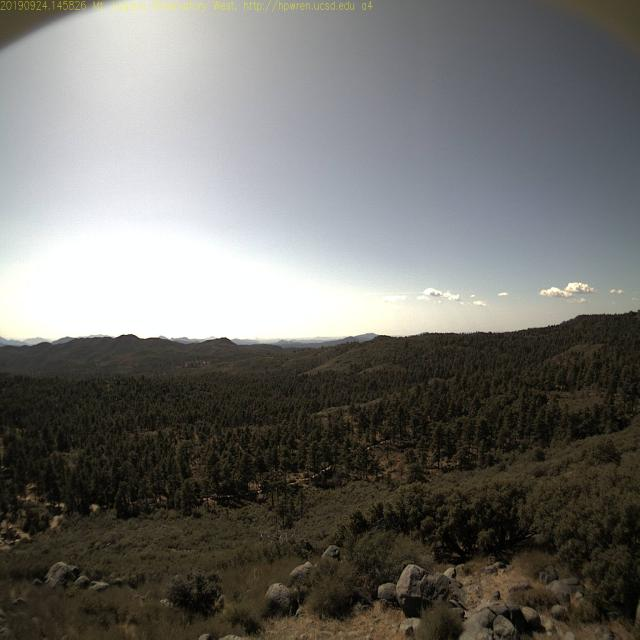smoke: (250, 328, 264, 347)
